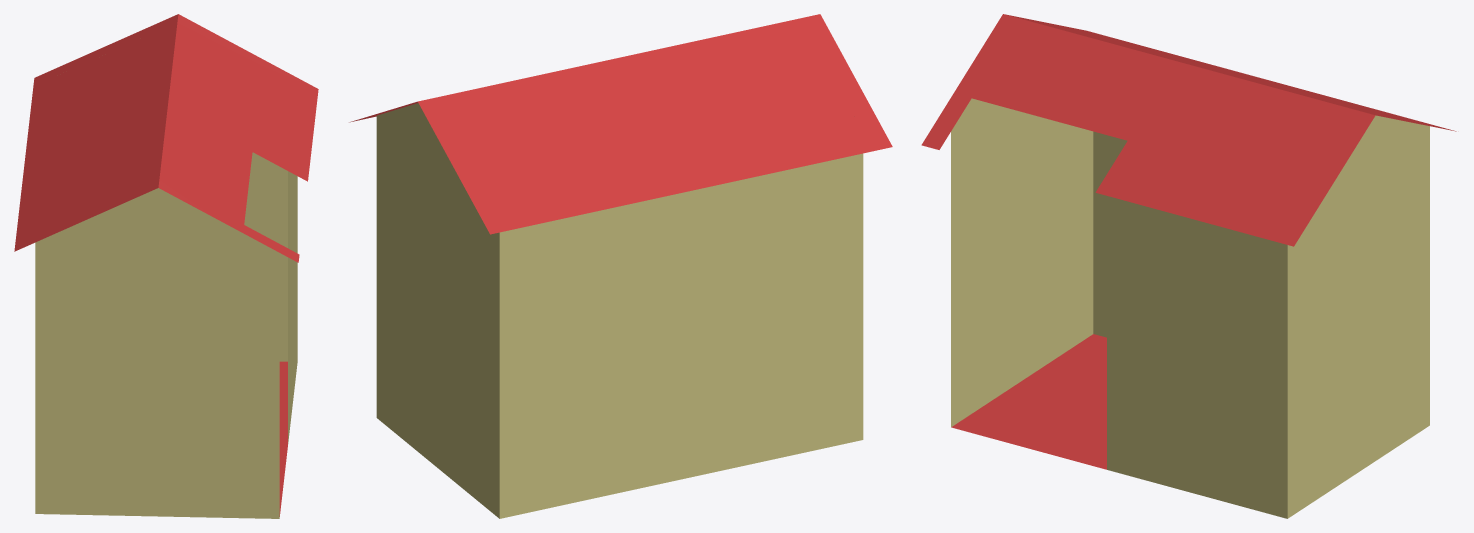
The picture shows the model from 3 angles, left to right: view 1: azimuth 30°, elevation 25°; view 2: azimuth 150°, elevation 25°; view 3: azimuth 270°, elevation 25°; orthographic projection. The views are drawn at different scales.
Size of the model in its own units: 17.33 by 18.76 by 13.94.
